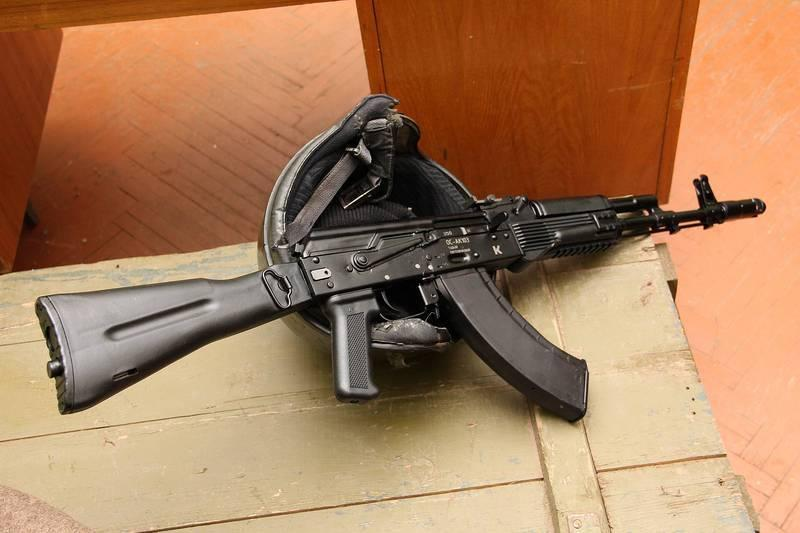larga: (34, 174, 768, 424)
